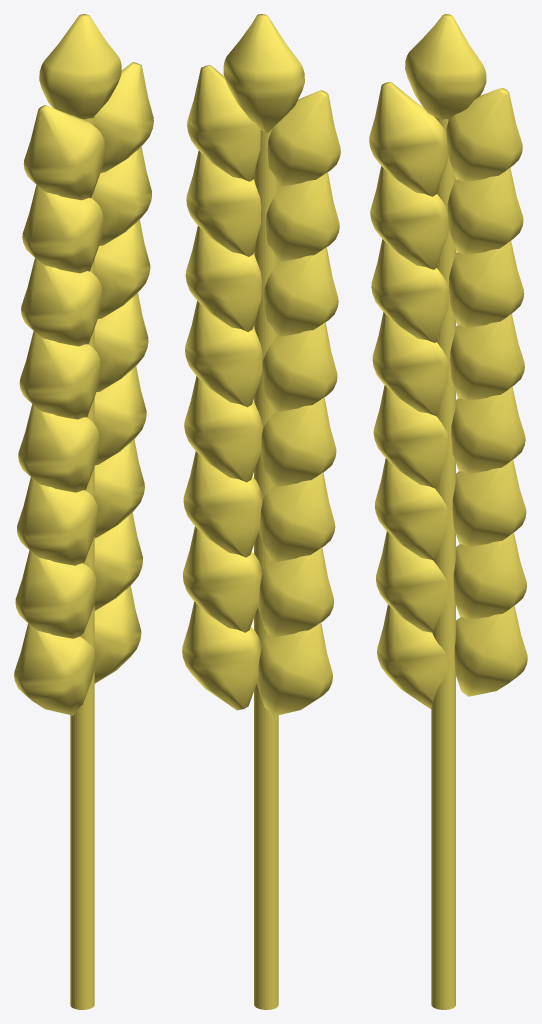
Rendered from wheat.fbx.
3 renders of one model, left to right at view 1: azimuth 30°, elevation 25°; view 2: azimuth 150°, elevation 25°; view 3: azimuth 330°, elevation 25°, orthographic.
Parts seen in each view (by area): view 1: Cylinder.016; view 2: Cylinder.016; view 3: Cylinder.016.
Boxes of the visible parts, <box> form: Cylinder.016: <box>14,14,153,1009</box>; Cylinder.016: <box>182,14,340,1009</box>; Cylinder.016: <box>369,14,527,1009</box>.
Bounding box in the file's own units: 141 × 999 × 103.
